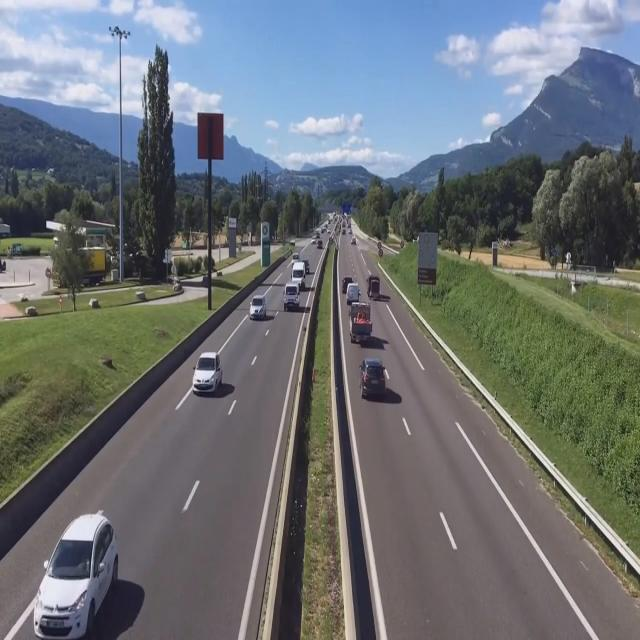car: (34, 510, 123, 638), (192, 352, 223, 396), (360, 356, 388, 402), (283, 281, 301, 313), (250, 291, 268, 321)
truck: (348, 300, 374, 346)
